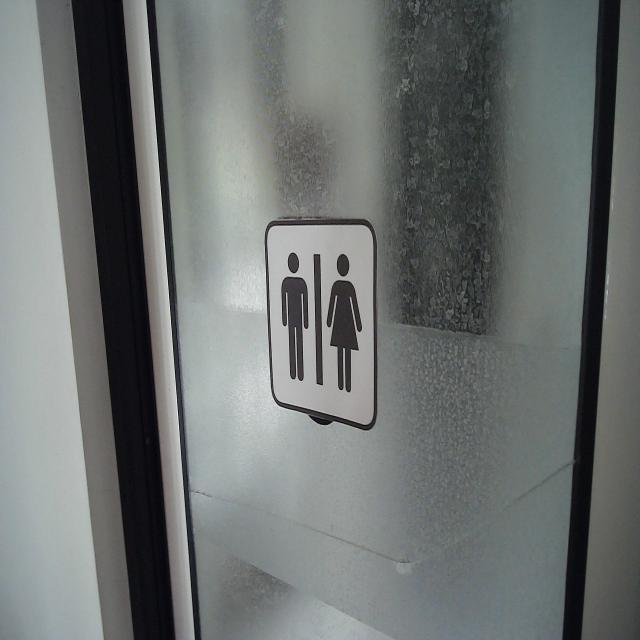restroom: (262, 215, 380, 434)
